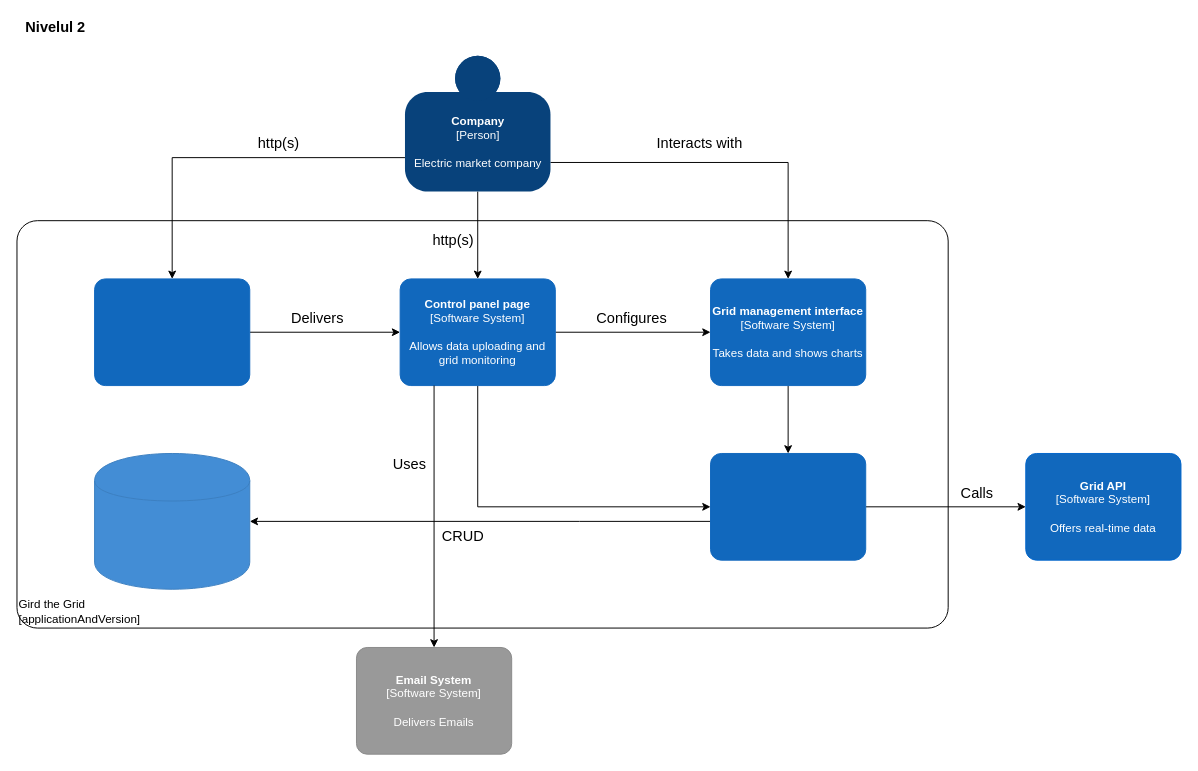
This 1198x771 diagram has some shape labels left out. The shapes that lost their labels are listed below. From the top down, each one's box as (x1, y1, x2, y2) in pixels, then its label:
(94, 278, 250, 386): Web application [Software System] [.net + Blazor]
(94, 453, 250, 589): Database [Container: Technology] Description
(710, 453, 866, 560): API App [Software System] Server application which deals with user requests
